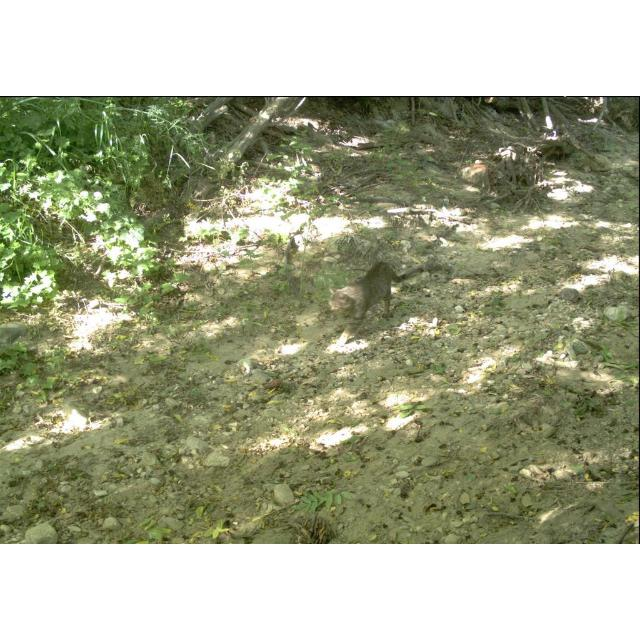animals: (328, 258, 456, 322)
